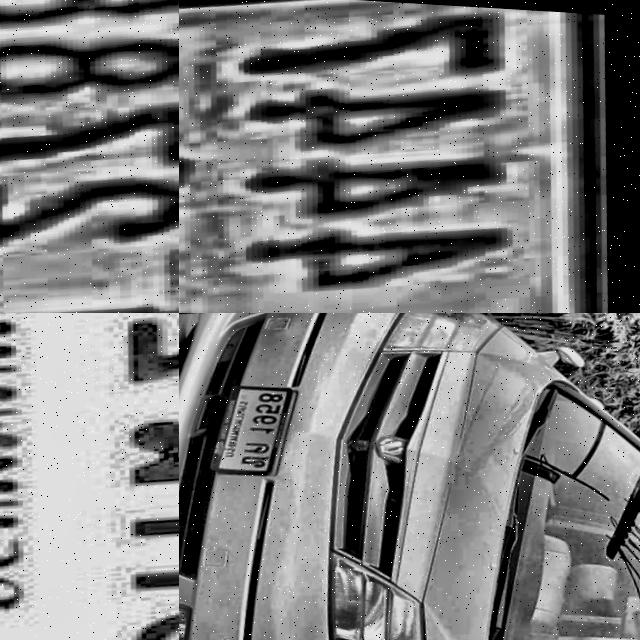license-plate: (179, 0, 640, 313), (0, 313, 179, 640), (0, 0, 179, 313), (198, 373, 311, 484)
